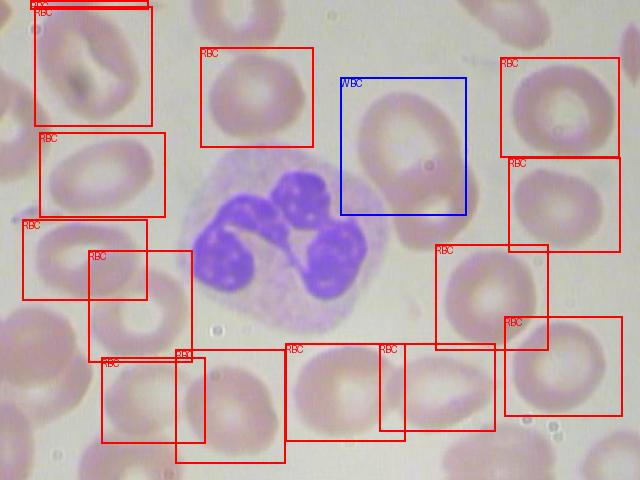RBC: (34, 6, 152, 126), (175, 349, 285, 463), (435, 244, 548, 350), (500, 57, 619, 157), (504, 316, 622, 416), (285, 343, 405, 441), (88, 250, 192, 362), (200, 47, 313, 147), (39, 132, 165, 217), (508, 157, 620, 252), (379, 343, 495, 431), (22, 219, 147, 300), (101, 357, 205, 443), (30, 0, 148, 9)
WBC: (340, 77, 466, 215)
